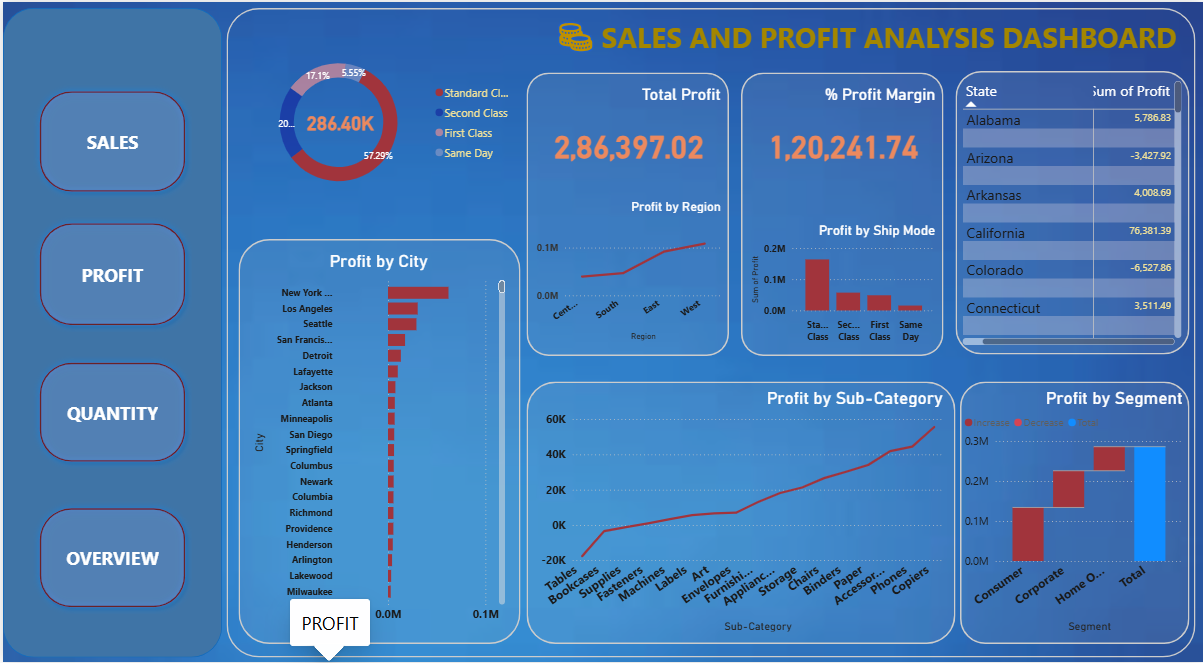

The dashboard page shown, as its layout file describes it:
{"tool":"powerbi","page":{"name":"PROFIT","canvas":[1600,880],"ordinal":1},"visuals":[{"type":"shape","box":[0,8,292,866],"z":0},{"type":"shape","box":[298,8,1292,866],"z":1000},{"type":"shape","box":[314,316,376,540],"z":2000},{"type":"shape","box":[698,506,572,350],"z":3000},{"type":"shape","box":[1276,506,306,350],"z":4000},{"type":"shape","box":[698,94,270,378],"z":5000},{"type":"shape","box":[1270,92,312,378],"z":6000},{"type":"shape","box":[984,94,270,378],"z":7000},{"type":"textbox","box":[690,16,880,62],"z":8000},{"type":"lineChart","title":"Profit by Region","fields":{"Y":["Sum(Sheet1.Profit)"],"Category":["Sheet1.Region"]},"box":[706,262,256,194],"z":9000},{"type":"card","title":"Total Profit","fields":{"Values":["Sheet1.Total Profit"]},"box":[706,110,256,134],"z":10000},{"type":"clusteredBarChart","title":"Profit by City","fields":{"Y":["Sum(Sheet1.Profit)"],"Category":["Sheet1.City"]},"box":[328,332,346,504],"z":11000},{"type":"lineChart","title":"Profit by Sub-Category","fields":{"Y":["Sum(Sheet1.Profit)"],"Category":["Sheet1.Sub-Category"]},"box":[710,514,548,330],"z":12000},{"type":"waterfallChart","title":"Profit by Segment","fields":{"Category":["Sheet1.Segment"],"Y":["Sum(Sheet1.Profit)"]},"box":[1276,514,302,330],"z":13000},{"type":"pivotTable","title":"Total Sales by Segment","fields":{"Rows":["Sheet1.State"],"Values":["Sum(Sheet1.Profit)"]},"box":[1274,100,302,362],"z":14000},{"type":"card","title":"% Profit Margin","fields":{"Values":["Sum(Sheet1.Profit Margin%)"]},"box":[992,110,256,134],"z":15000},{"type":"columnChart","title":"Profit by Ship Mode","fields":{"Category":["Sheet1.Ship Mode"],"Y":["Sum(Sheet1.Profit)"]},"box":[992,294,256,168],"z":16000},{"type":"donutChart","title":"Sales by Ship Mode","fields":{"Category":["Sheet1.Ship Mode"],"Y":["Sum(Sheet1.Profit)"]},"box":[314,16,376,288],"z":17000},{"type":"card","title":"Total Sales","fields":{"Values":["Sheet1.Total Profit"]},"box":[396,124,106,72],"z":18000},{"type":"shape","box":[40,110,212,152],"z":19000},{"type":"shape","box":[40,286,212,154],"z":20000},{"type":"shape","box":[40,472,212,150],"z":21000},{"type":"shape","box":[40,666,212,150],"z":22000},{"type":"image","title":"Total Sales","box":[726,18,74,58],"z":23000}]}

Visuals, with their boxes in screenshot pixels (x1, y1, x2, y2), scaled from the page's 1600x880 canvas onto the 1203x663 screenshot:
shape: x1=0, y1=6, x2=220, y2=658
shape: x1=224, y1=6, x2=1195, y2=658
shape: x1=236, y1=238, x2=519, y2=645
shape: x1=525, y1=381, x2=955, y2=645
shape: x1=959, y1=381, x2=1189, y2=645
shape: x1=525, y1=71, x2=728, y2=356
shape: x1=955, y1=69, x2=1189, y2=354
shape: x1=740, y1=71, x2=943, y2=356
textbox: x1=519, y1=12, x2=1180, y2=59
"Profit by Region" lineChart: x1=531, y1=197, x2=723, y2=344
"Total Profit" card: x1=531, y1=83, x2=723, y2=184
"Profit by City" clusteredBarChart: x1=247, y1=250, x2=507, y2=630
"Profit by Sub-Category" lineChart: x1=534, y1=387, x2=946, y2=636
"Profit by Segment" waterfallChart: x1=959, y1=387, x2=1186, y2=636
"Total Sales by Segment" pivotTable: x1=958, y1=75, x2=1185, y2=348
"% Profit Margin" card: x1=746, y1=83, x2=938, y2=184
"Profit by Ship Mode" columnChart: x1=746, y1=222, x2=938, y2=348
"Sales by Ship Mode" donutChart: x1=236, y1=12, x2=519, y2=229
"Total Sales" card: x1=298, y1=93, x2=377, y2=148
shape: x1=30, y1=83, x2=189, y2=197
shape: x1=30, y1=215, x2=189, y2=332
shape: x1=30, y1=356, x2=189, y2=469
shape: x1=30, y1=502, x2=189, y2=615
"Total Sales" image: x1=546, y1=14, x2=602, y2=57
